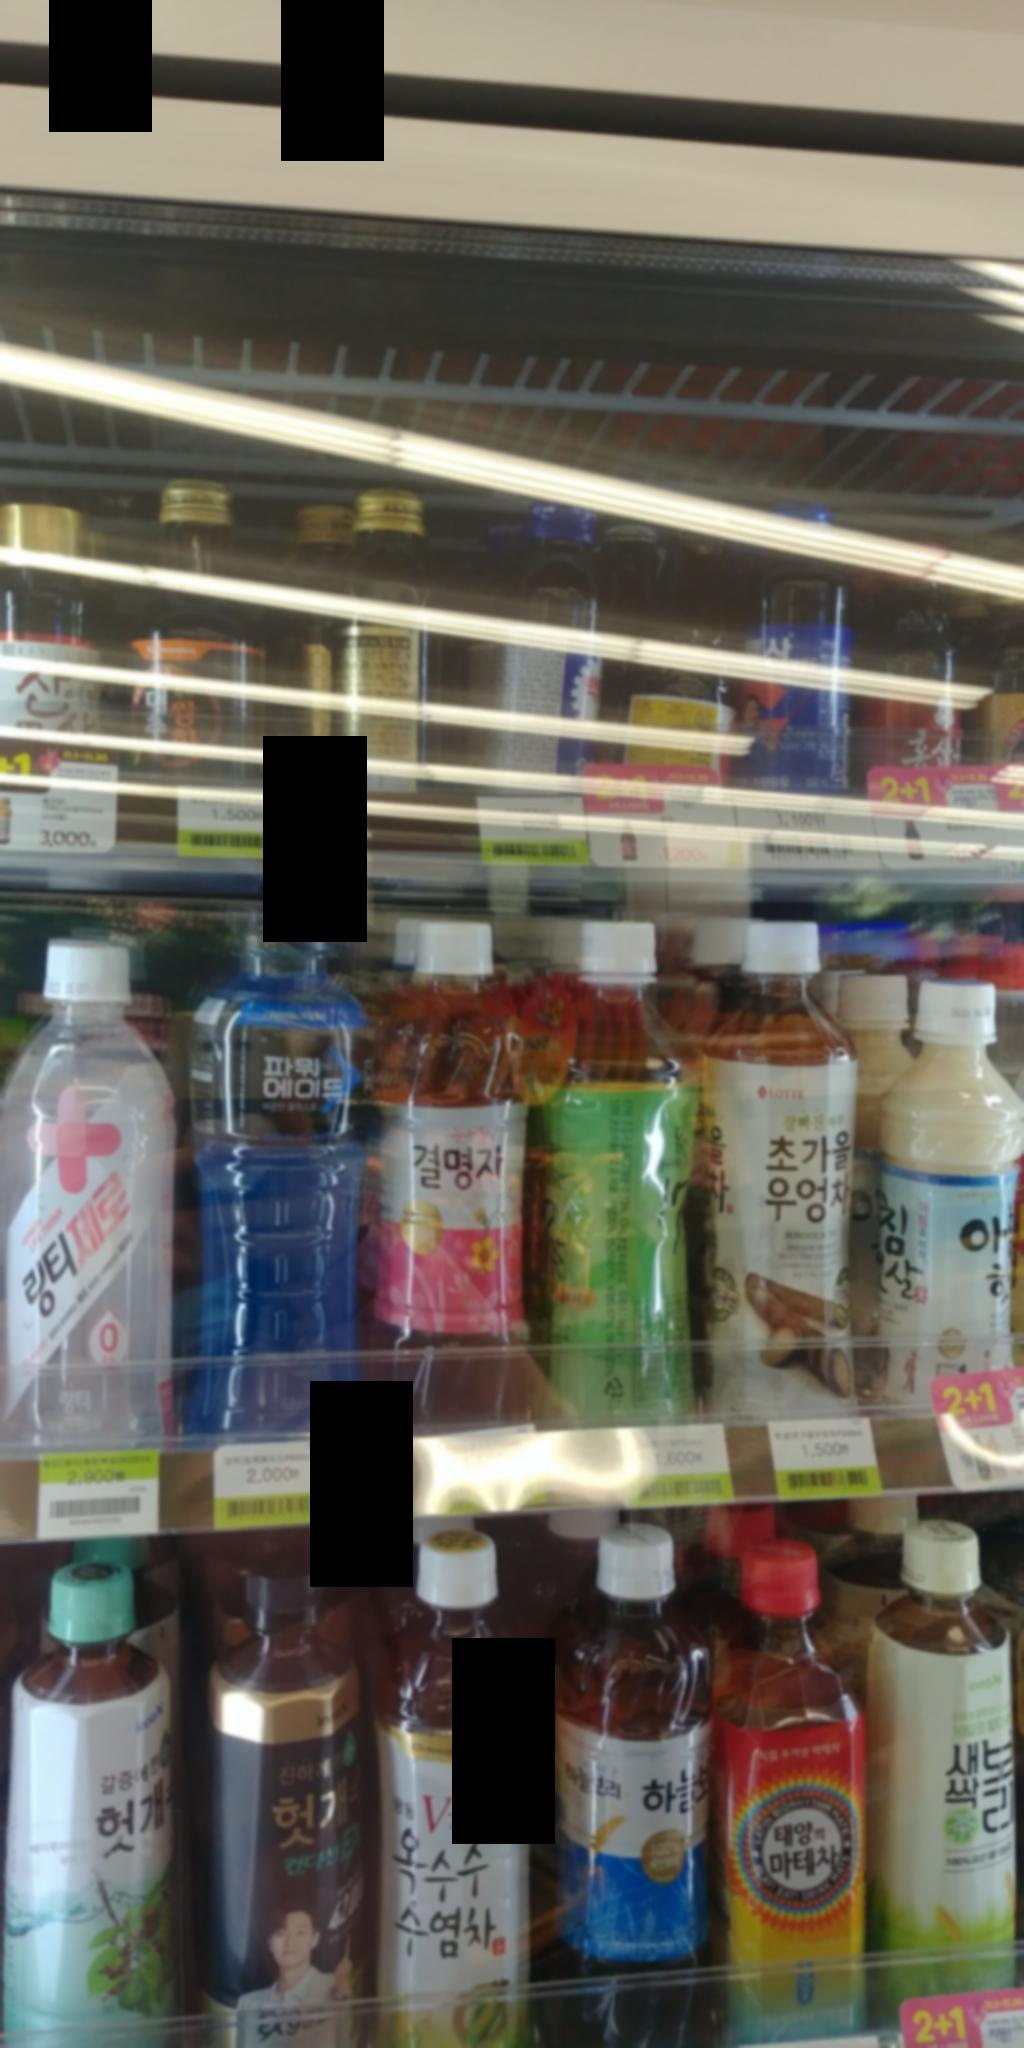haneulbori: (532, 1501, 730, 2047)
oksususuyeomcha: (358, 1522, 576, 2047)
powerade_mountainblast: (155, 901, 384, 1437)
